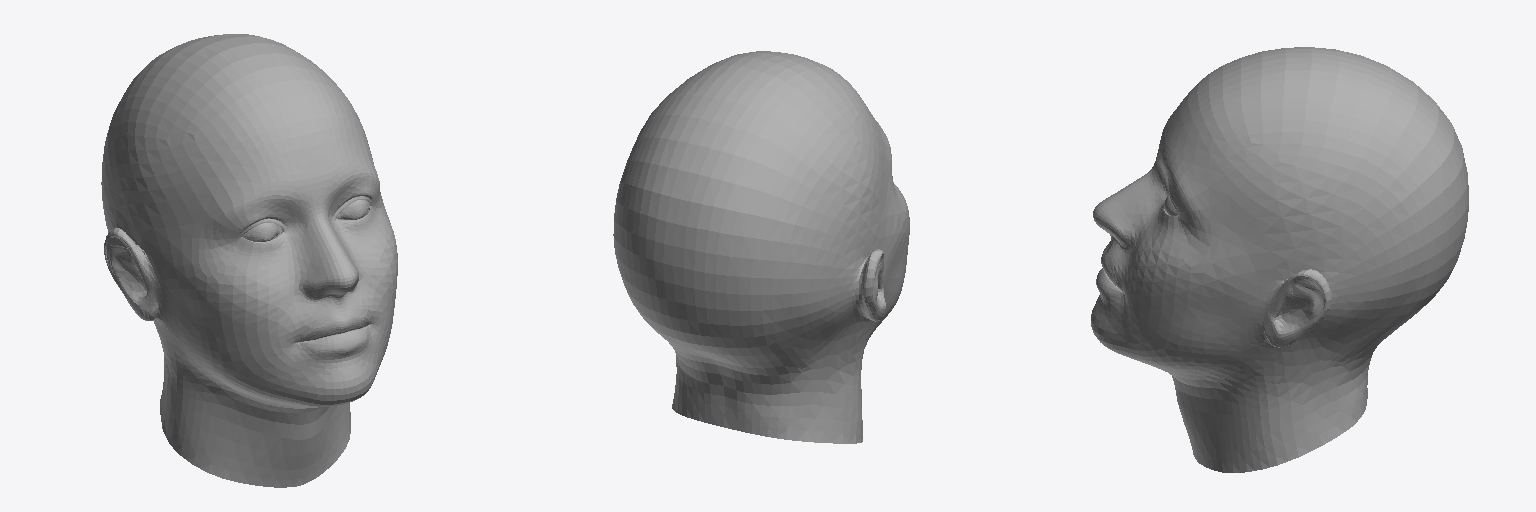
3 renders of one model, left to right at view 1: azimuth 30°, elevation 25°; view 2: azimuth 150°, elevation 25°; view 3: azimuth 270°, elevation 25°, orthographic.
Parts seen in each view (by area): view 1: FaceGen; view 2: FaceGen; view 3: FaceGen.
Boxes of the visible parts, x1=… form: FaceGen: x1=101, y1=34, x2=397, y2=487; FaceGen: x1=613, y1=51, x2=909, y2=443; FaceGen: x1=1091, y1=47, x2=1468, y2=472.
Size of the model in its own units: 191 by 281 by 243.